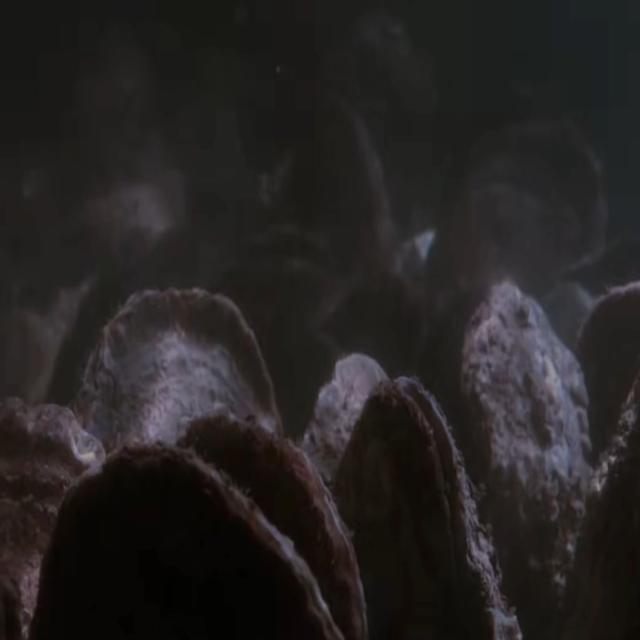Oyster-Closed: (34, 441, 341, 640), (176, 414, 366, 640), (0, 394, 106, 640)
Oyster-Indeterminate: (69, 288, 285, 640), (457, 279, 593, 640), (427, 120, 609, 322), (302, 351, 391, 640), (292, 89, 398, 296), (575, 282, 640, 516), (61, 158, 188, 276)
Oyster-Open: (334, 375, 511, 640), (216, 220, 338, 322)
